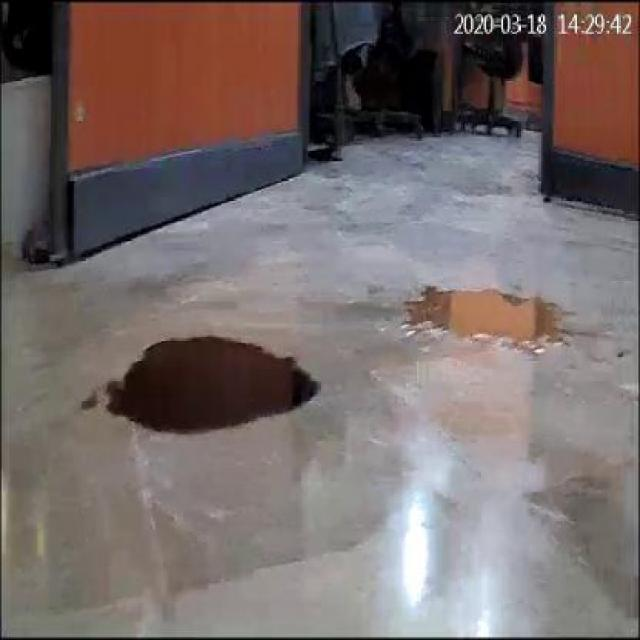spill: (98, 333, 322, 432), (398, 287, 566, 358)
